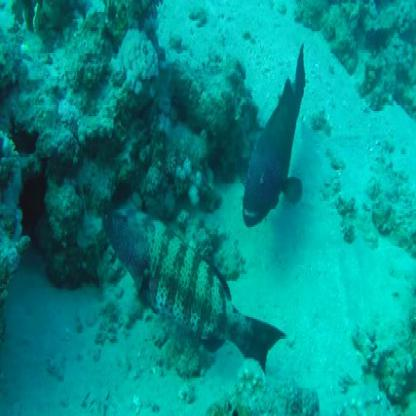grouper: (101, 200, 288, 386), (237, 36, 313, 230)
